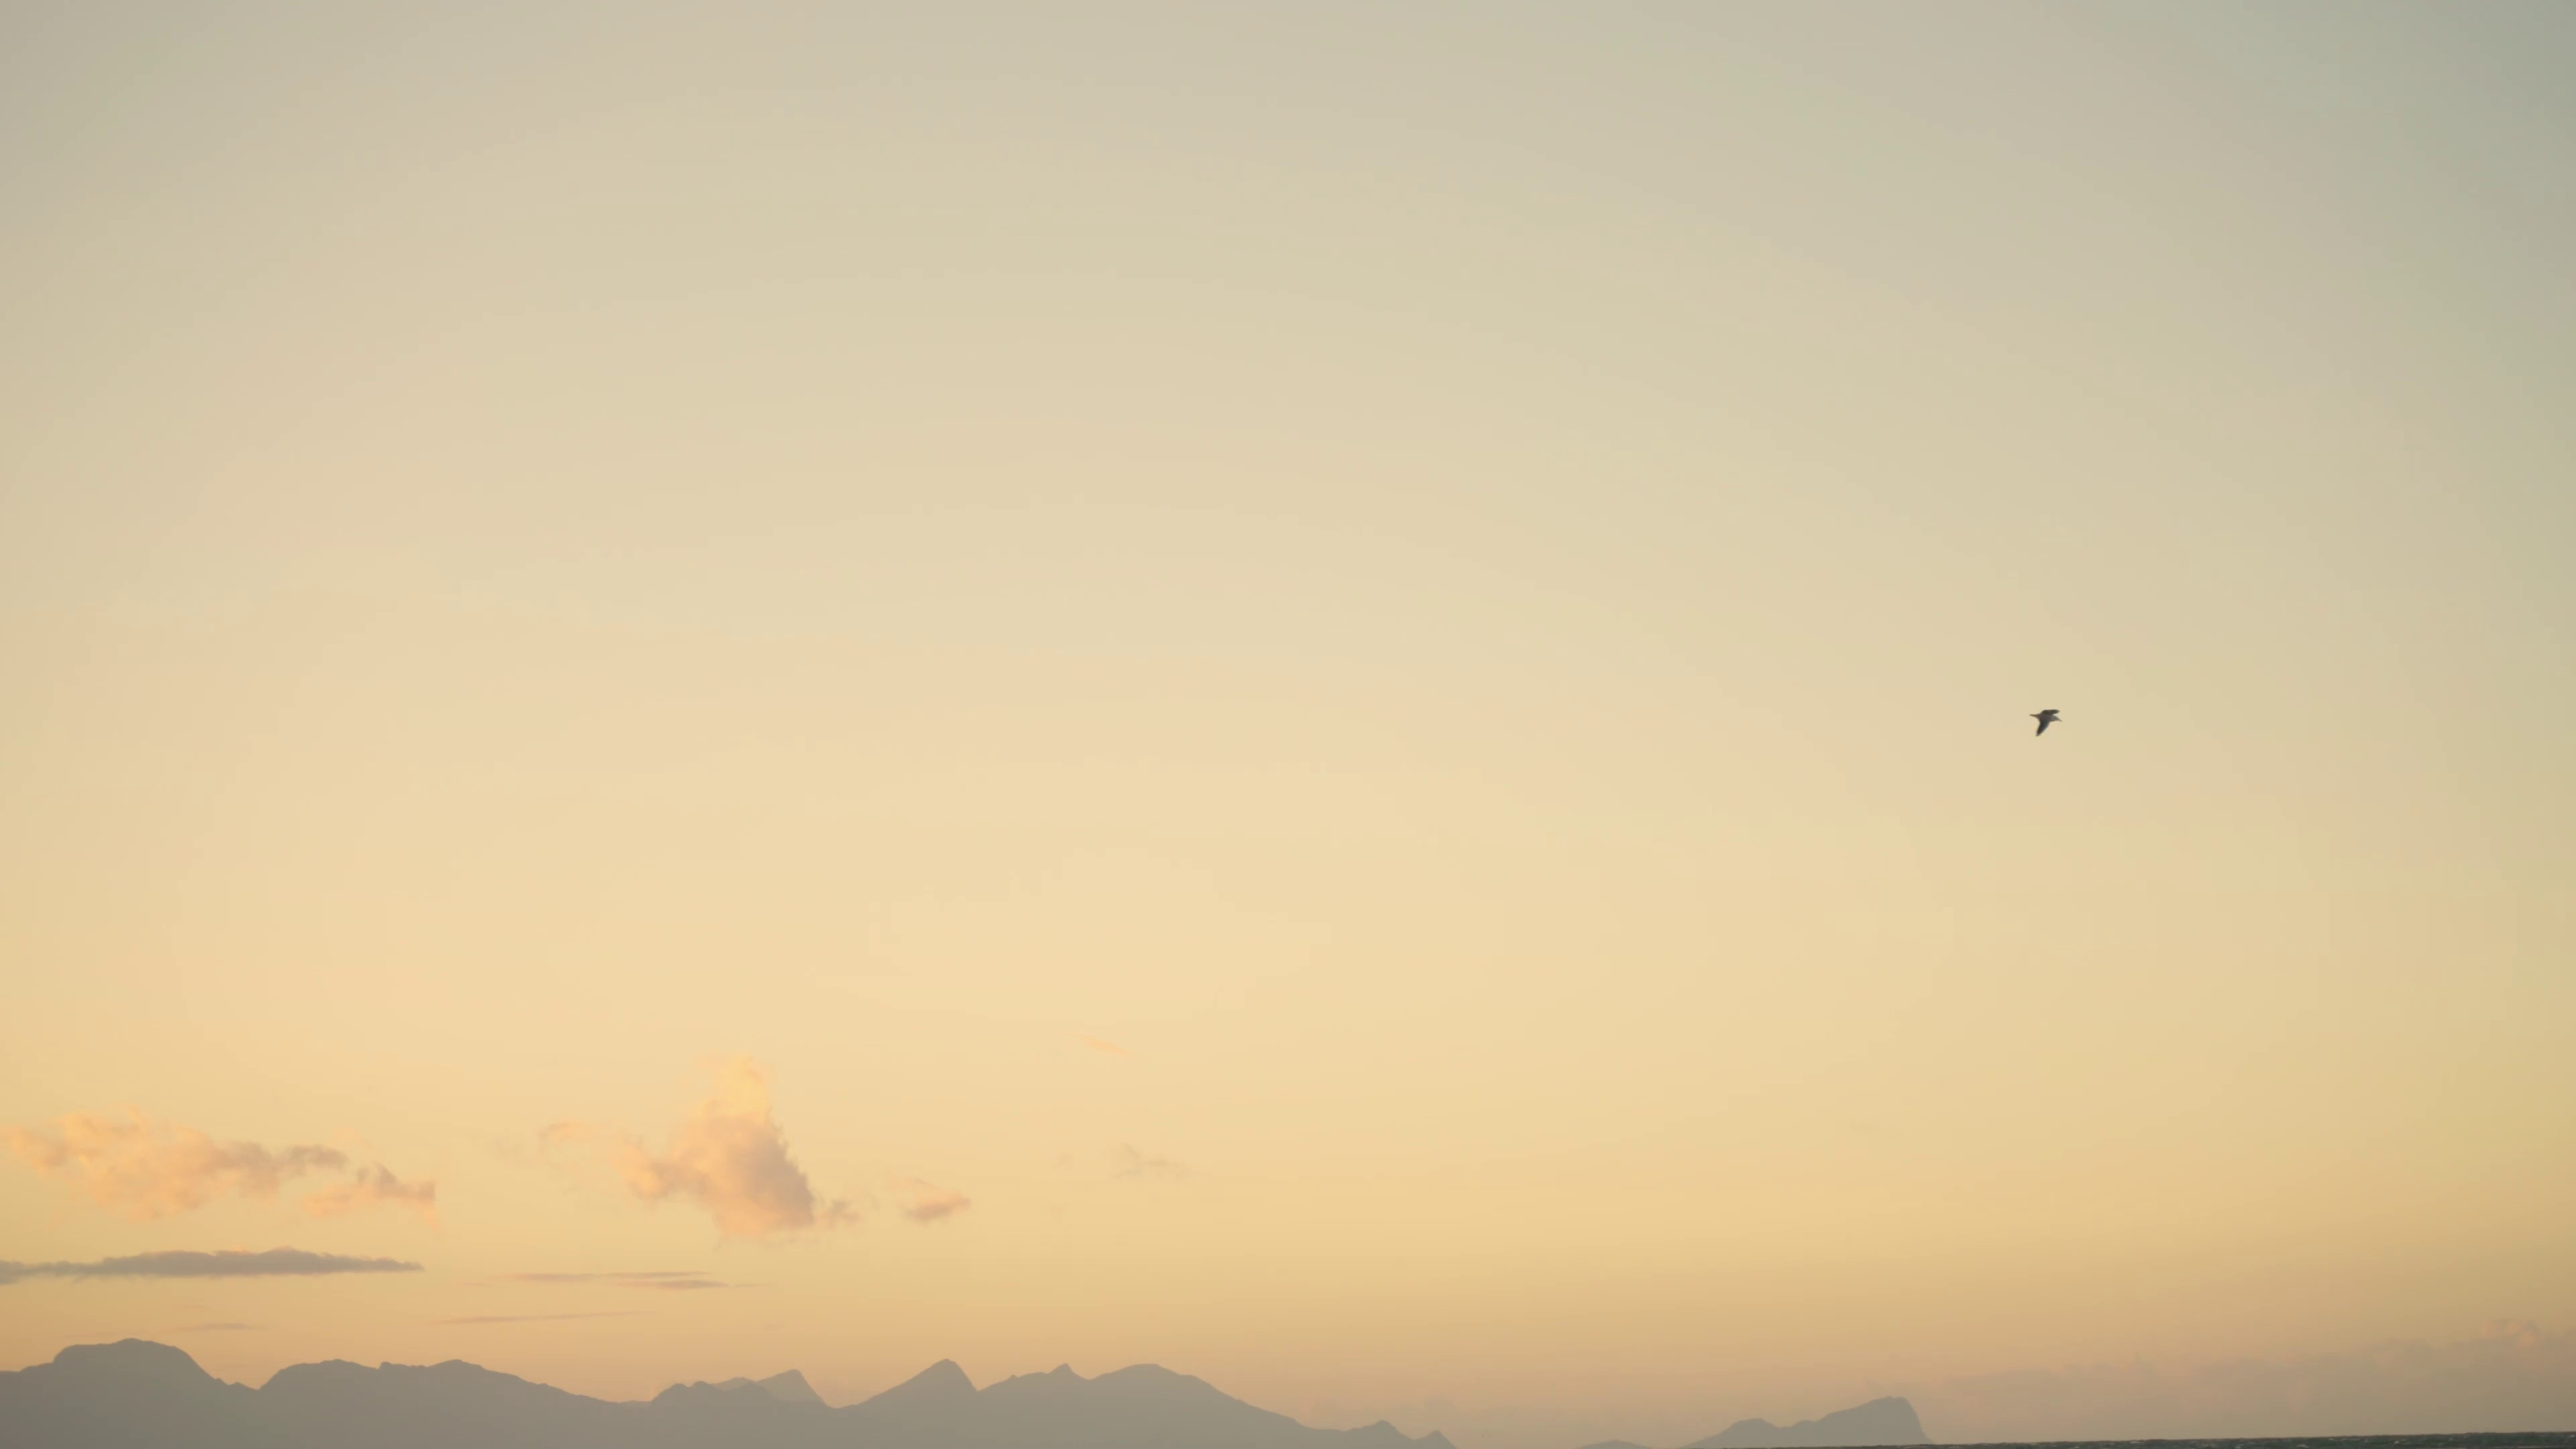bird: (2029, 709, 2063, 740)
